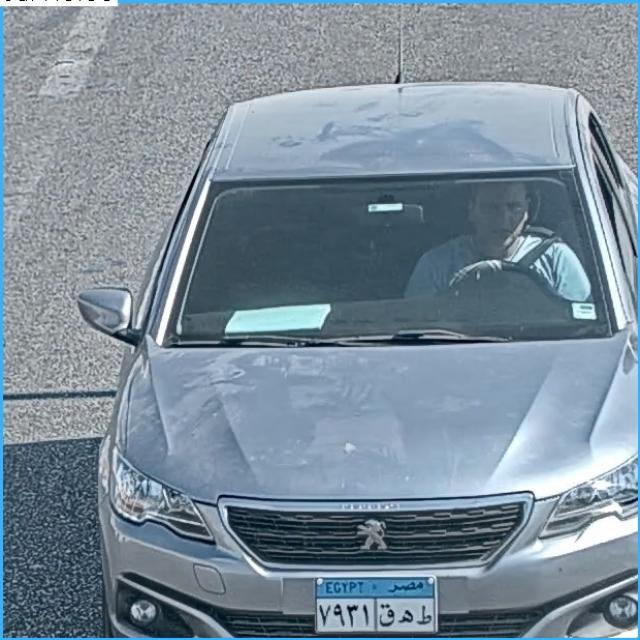windshield: (162, 176, 613, 337)
